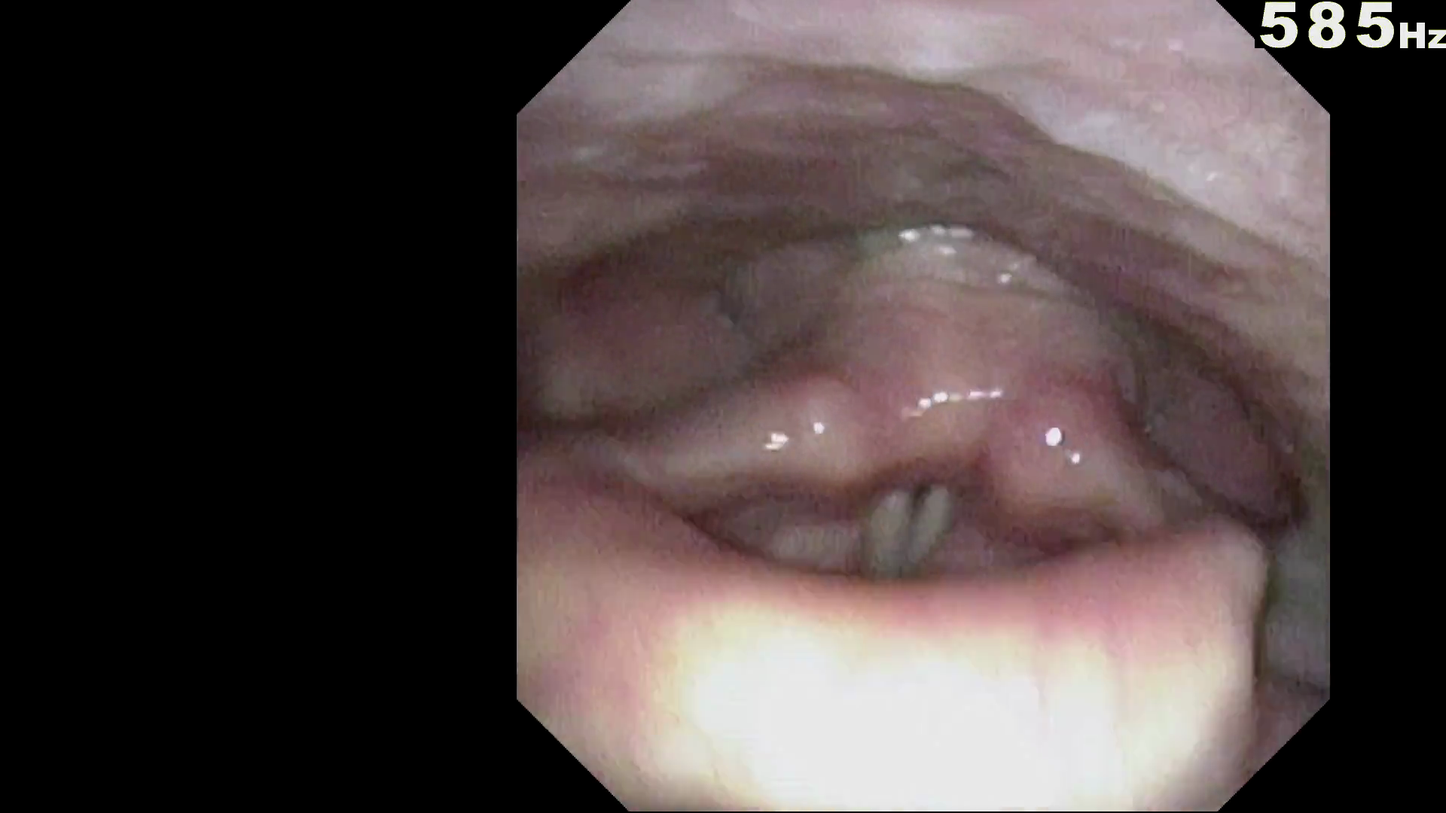epiglottis: (621, 555, 1230, 788)
trachea: (843, 481, 946, 598)
